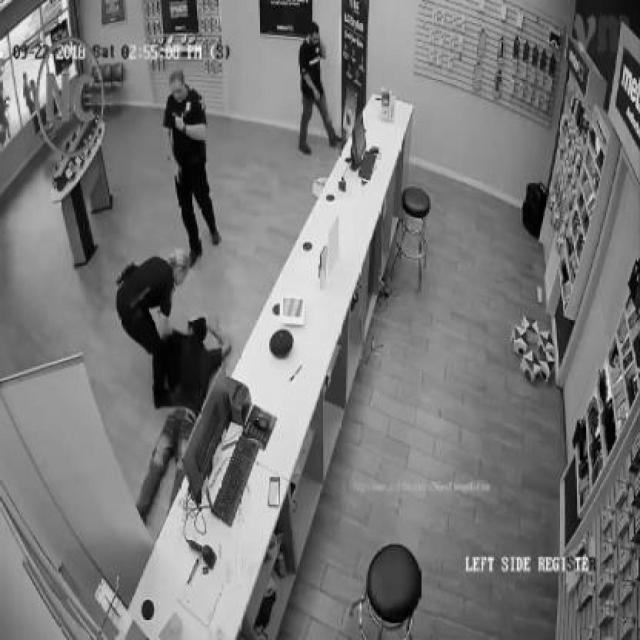weapon: (172, 165, 185, 188)
